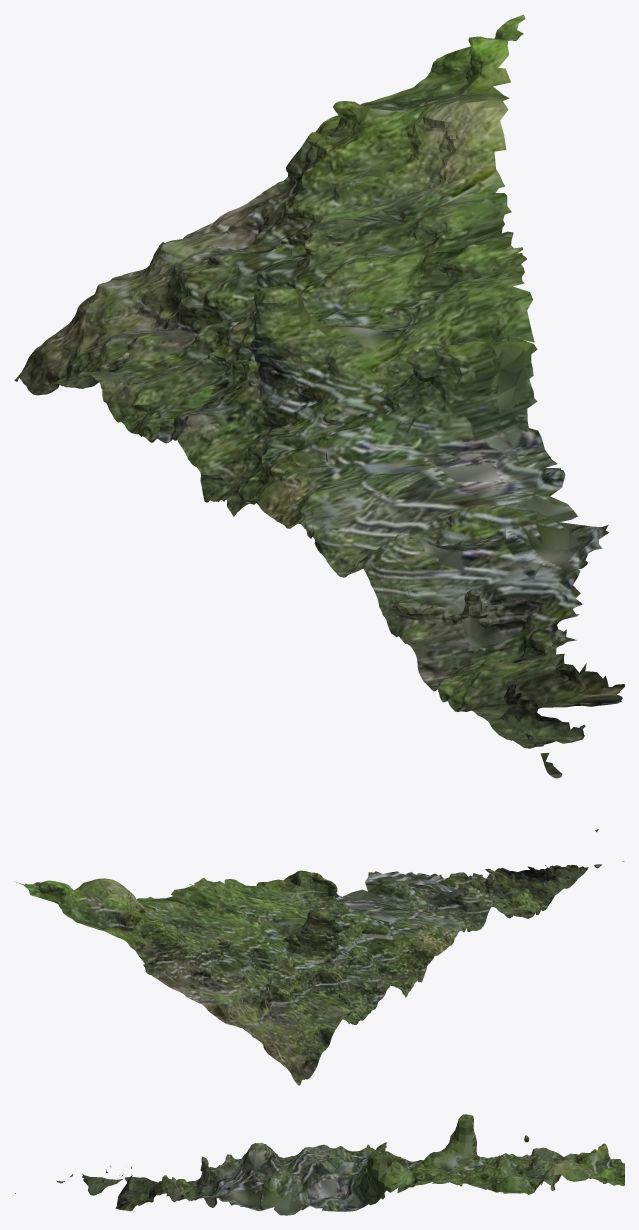
3 views of the same model, one above another, from view 1: azimuth 30°, elevation 25°; view 2: azimuth 150°, elevation 25°; view 3: azimuth 270°, elevation 25° (orthographic). The views are drawn at different scales.
Size of the model in its own units: 4.65 by 2.33 by 9.2.
Materials: 1 (1 with a texture image).
